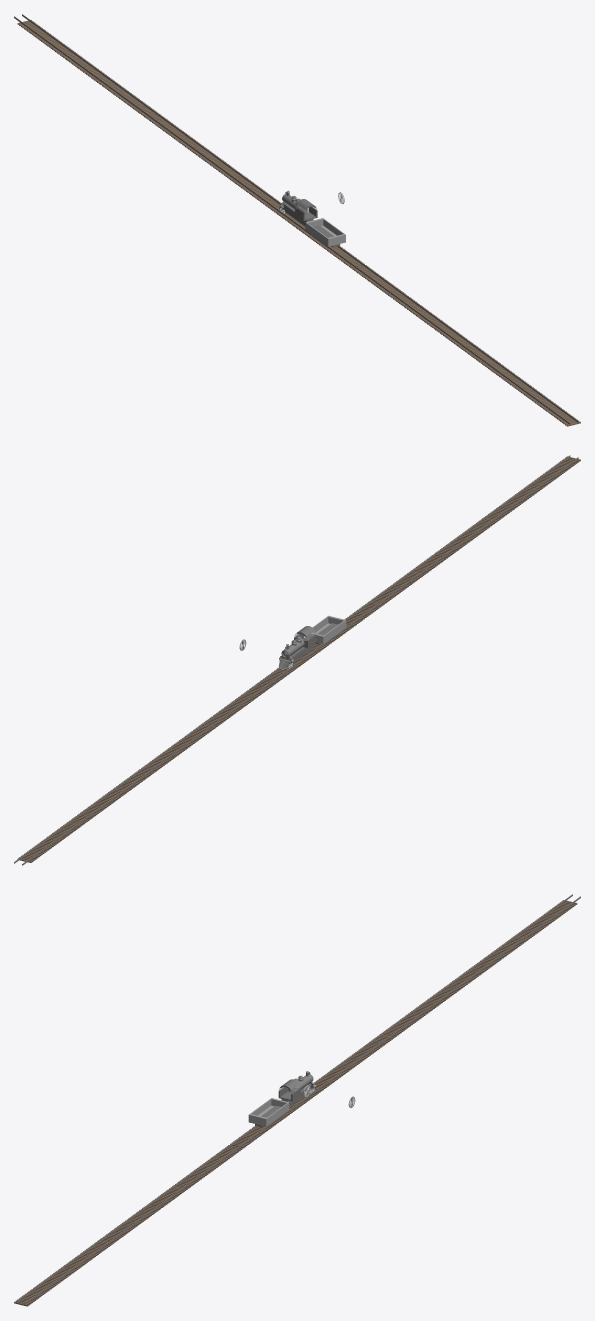
Rendered from unrigged_train_1.fbx.
3 views of the same model, one above another, from view 1: azimuth 30°, elevation 25°; view 2: azimuth 150°, elevation 25°; view 3: azimuth 330°, elevation 25° (orthographic).
Visible parts, largest first — view 1: polySurface943, polySurface952; view 2: polySurface943, polySurface952; view 3: polySurface943, polySurface952.
Part boxes in pixels (left/top/right/bottom): polySurface943: left=14, top=14, right=580, bottom=426; polySurface952: left=279, top=190, right=345, bottom=246; polySurface943: left=14, top=455, right=580, bottom=865; polySurface952: left=278, top=615, right=346, bottom=669; polySurface943: left=14, top=894, right=580, bottom=1306; polySurface952: left=248, top=1071, right=315, bottom=1127.
Size of the model in its own units: 30.56 by 13.05 by 502.
